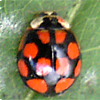Rash: (16, 11, 81, 96)
